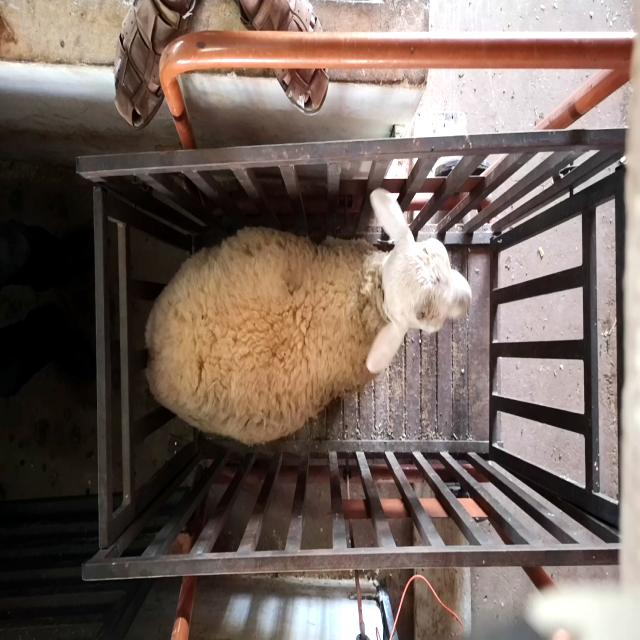sheep: (142, 186, 472, 447)
